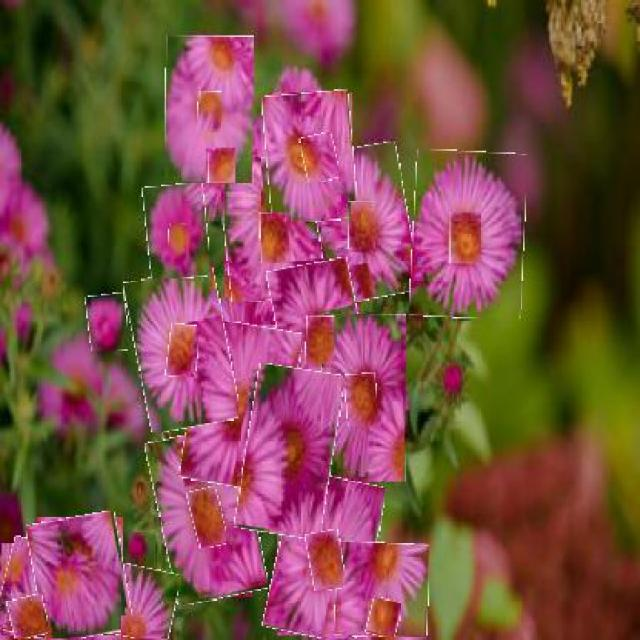Flower: (411, 150, 527, 319), (185, 321, 298, 490), (153, 429, 262, 603), (269, 473, 380, 639), (130, 270, 235, 432), (241, 366, 339, 537), (311, 146, 414, 303), (221, 155, 325, 301), (273, 261, 369, 418), (321, 315, 408, 484), (166, 36, 257, 185), (31, 514, 131, 638), (265, 91, 357, 222), (335, 542, 431, 639), (185, 111, 262, 225), (0, 539, 80, 639), (88, 562, 179, 639), (144, 183, 208, 280), (86, 293, 128, 352), (307, 531, 344, 592), (189, 488, 225, 549), (345, 373, 378, 429), (301, 134, 338, 183), (166, 324, 199, 378), (449, 212, 482, 265), (9, 596, 49, 639), (259, 212, 290, 265), (306, 316, 337, 367), (349, 200, 378, 254), (367, 599, 401, 639), (208, 148, 237, 185), (197, 92, 223, 133), (120, 615, 148, 637), (169, 223, 188, 251)
